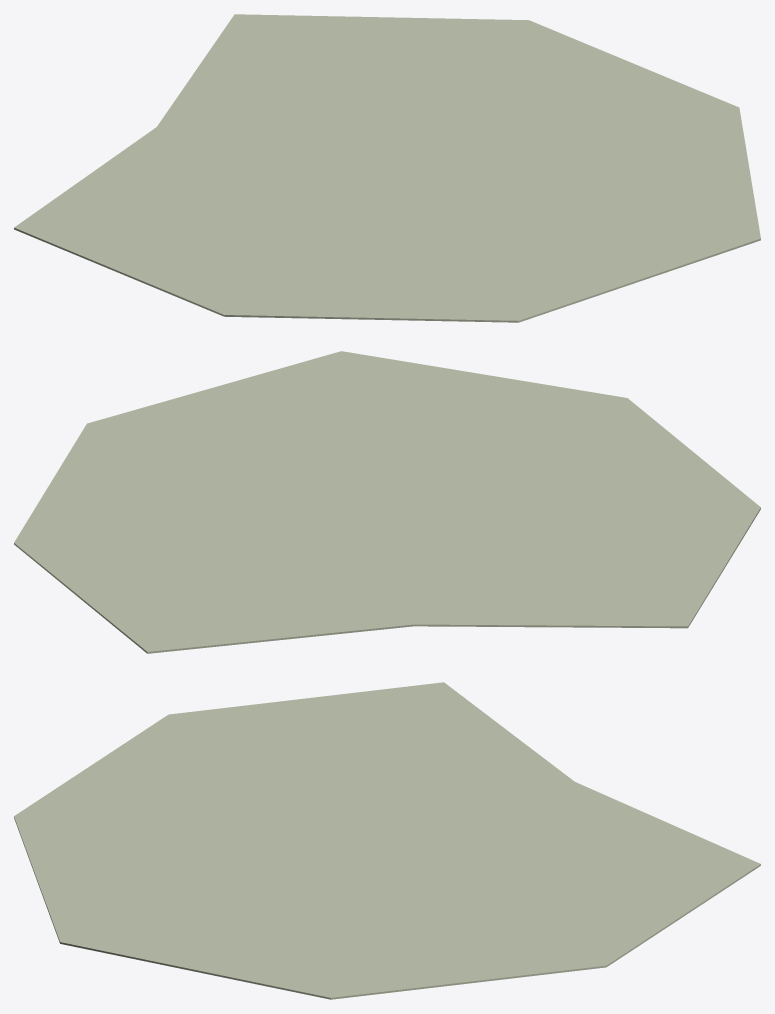
Rendered from Carpet.fbx.
3 renders of one model, top to bottom at view 1: azimuth 30°, elevation 25°; view 2: azimuth 150°, elevation 25°; view 3: azimuth 270°, elevation 25°, orthographic. The views are drawn at different scales.
Parts seen in each view (by area): view 1: Carpet; view 2: Carpet; view 3: Carpet.
Boxes of the visible parts, x1,y1,x2,y2 form: Carpet: (14, 14, 760, 322); Carpet: (14, 351, 760, 653); Carpet: (14, 682, 760, 999).
Size of the model in its own units: 119 by 0.3133 by 119.
